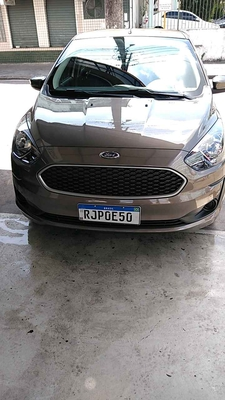Frontal Veiculo: (11, 33, 224, 237)
